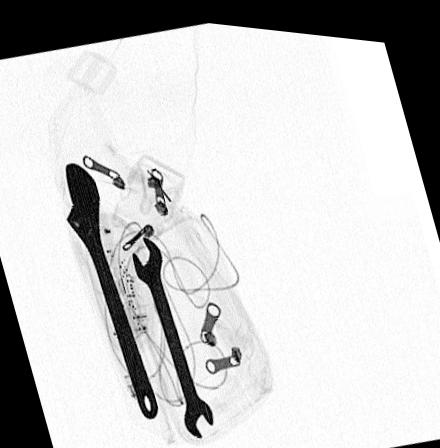Wrench: (66, 158, 158, 417), (133, 232, 214, 434)
